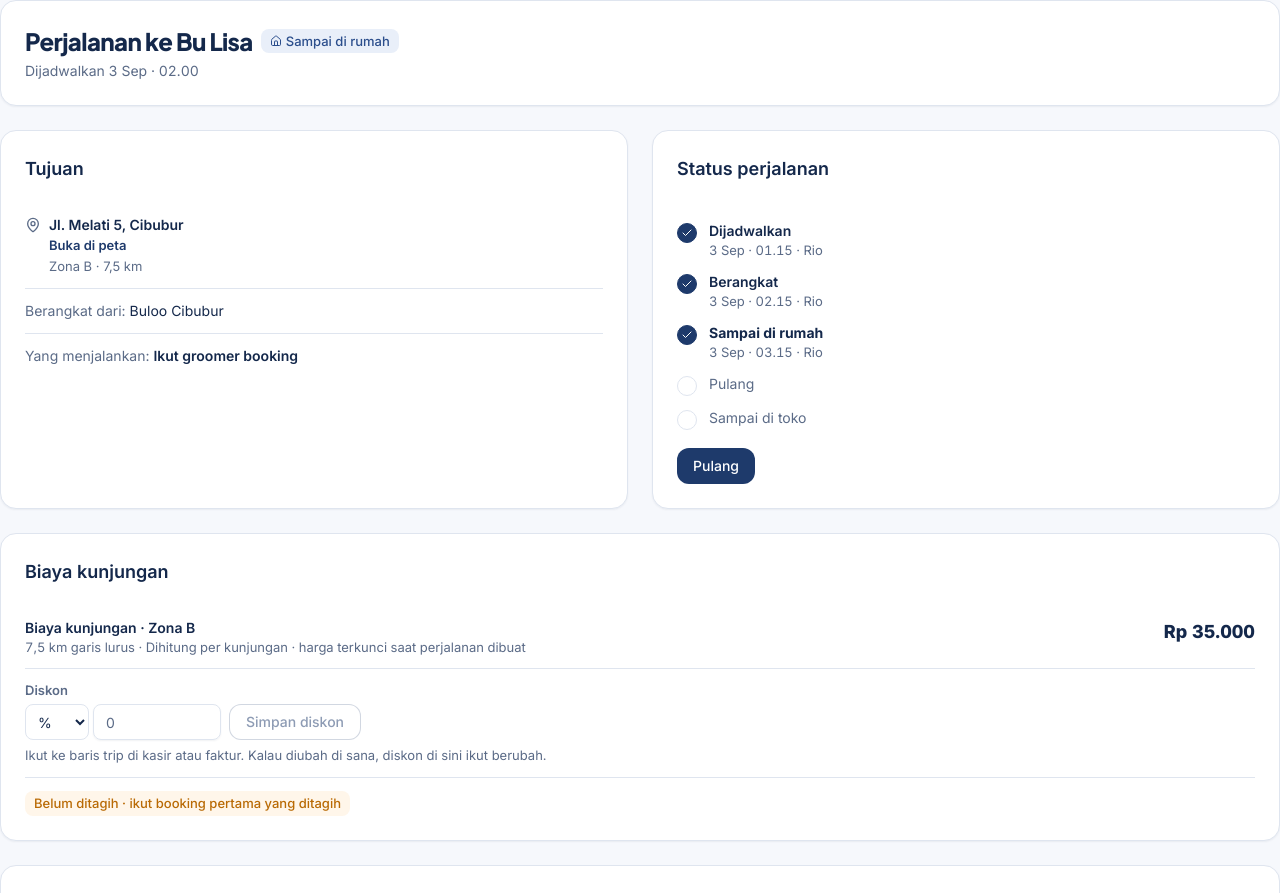
HomeTripDetailScreen › shows the server's own words when a rung is refused
Click the button "Pulang" at {"x": 716, "y": 466}, box left=677, top=448, right=755, bottom=484
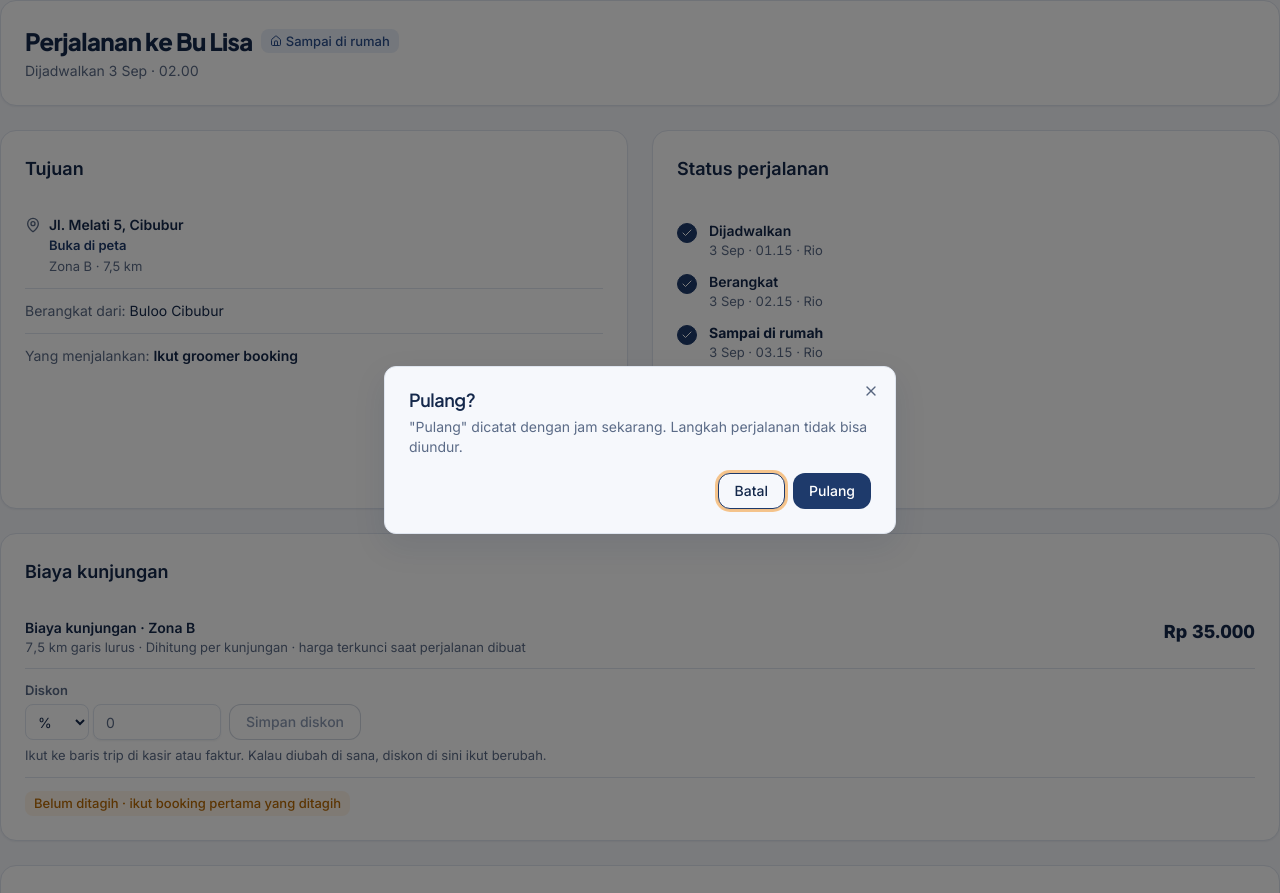
Click the button "Pulang" at {"x": 832, "y": 491}, box left=793, top=473, right=871, bottom=509
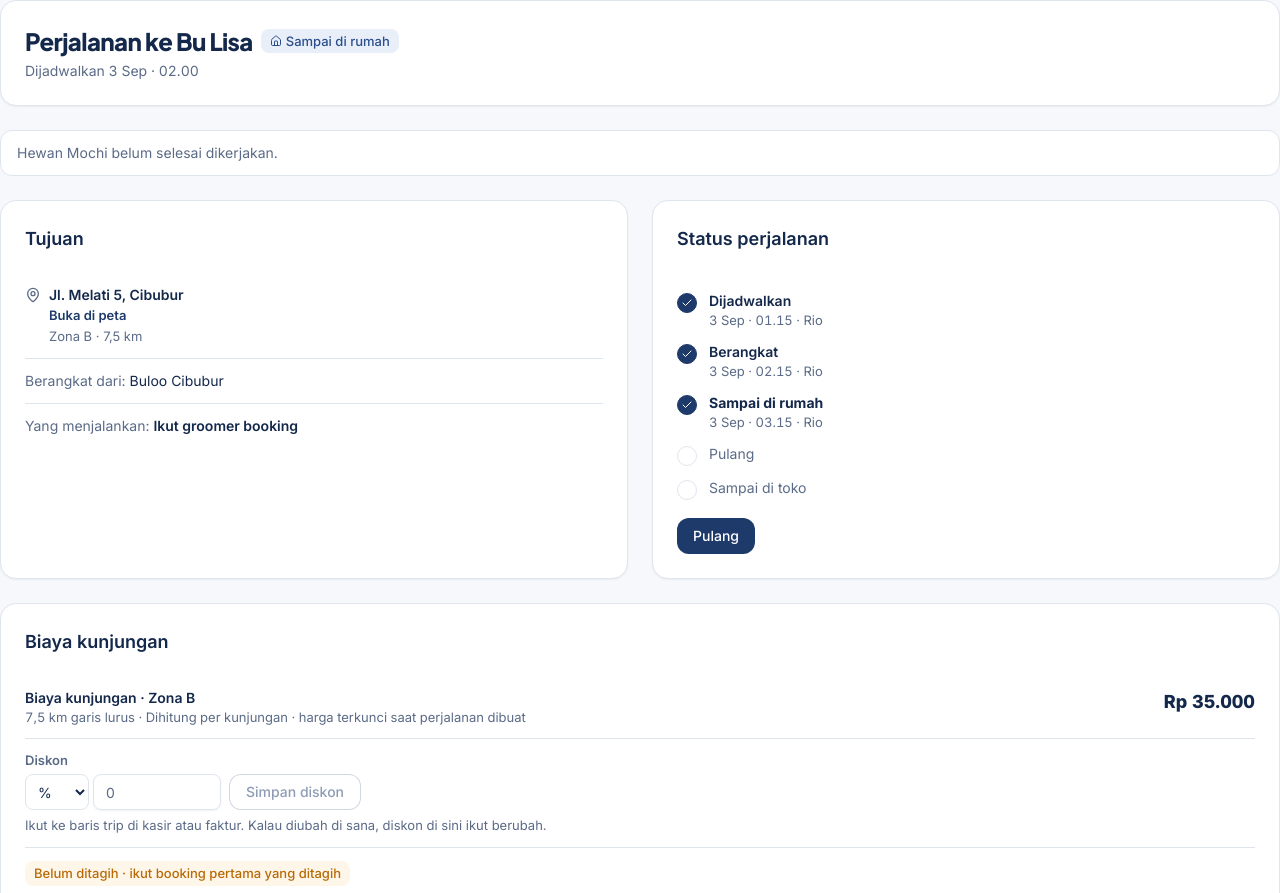
Check: the text "Hewan Mochi belum selesai dikerjakan." is shown, box left=17, top=144, right=278, bottom=161
